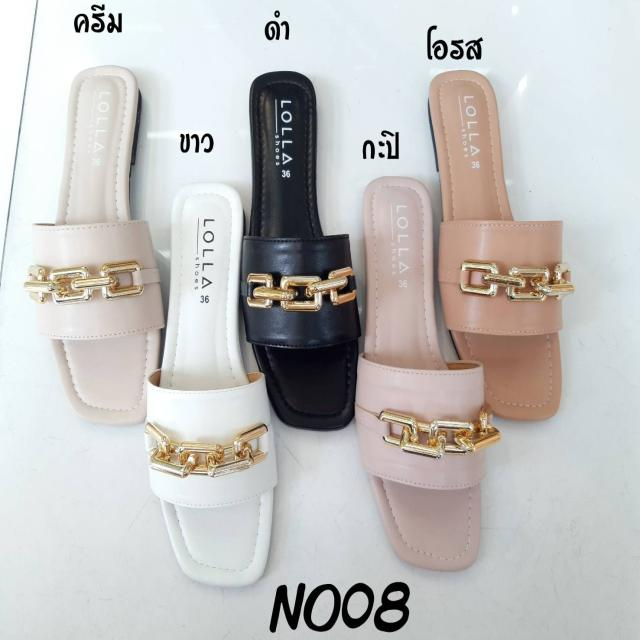black: (247, 52, 359, 425)
cream: (35, 55, 162, 428)
kapi: (360, 176, 476, 569)
orot: (428, 72, 566, 420)
white: (154, 181, 272, 582)
